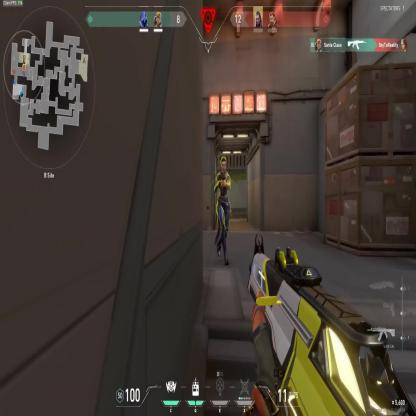enemy: (214, 155, 232, 268)
enemy_head: (219, 156, 226, 172)
